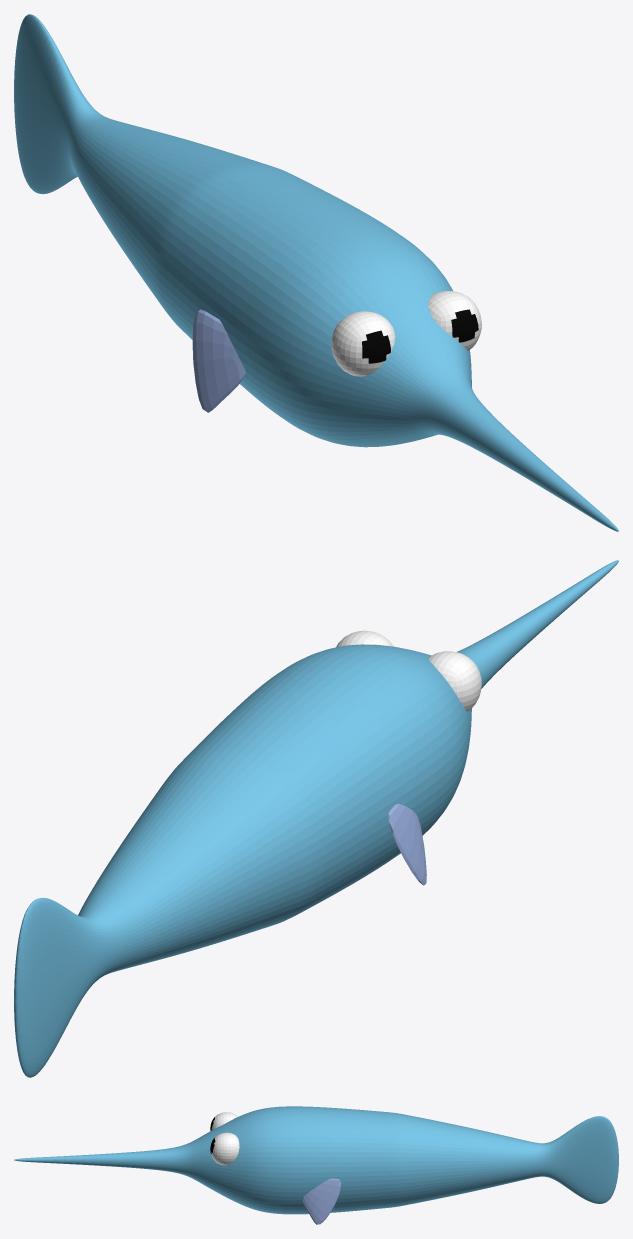
The model's file is FishIgla.fbx.
The picture shows the model from 3 angles, top to bottom: view 1: azimuth 30°, elevation 25°; view 2: azimuth 150°, elevation 25°; view 3: azimuth 270°, elevation 25°; orthographic projection. The views are drawn at different scales.
Parts seen in each view (by area): view 1: Cube, Cube.002, Cube.001; view 2: Cube, Cube.002, Cube.001; view 3: Cube, Cube.001, Cube.002.
Part boxes in pixels (box(x1,y1,x2,y2)): Cube: box(14, 14, 618, 531); Cube.002: box(331, 290, 481, 376); Cube.001: box(192, 309, 246, 412); Cube: box(14, 560, 618, 1077); Cube.002: box(336, 630, 481, 711); Cube.001: box(388, 804, 426, 885); Cube: box(14, 1106, 618, 1214); Cube.001: box(302, 1178, 341, 1224); Cube.002: box(210, 1112, 239, 1165).
Bounding box in the file's own units: 254 × 210 × 1196.
